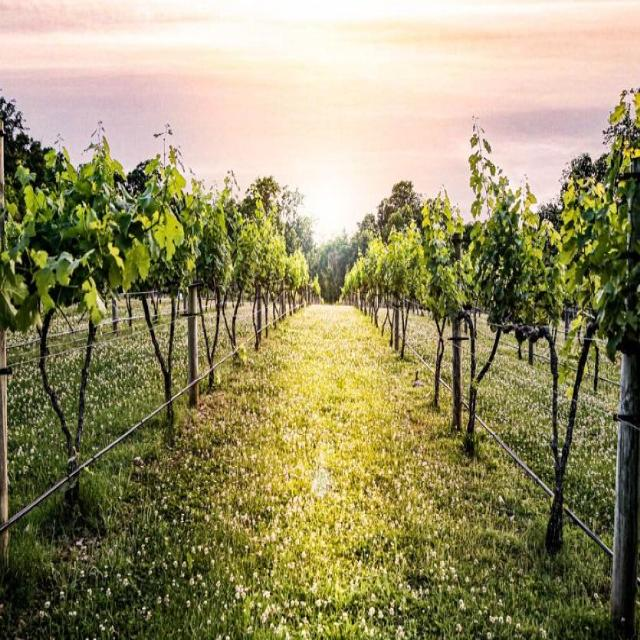row: (0, 299, 619, 631)
